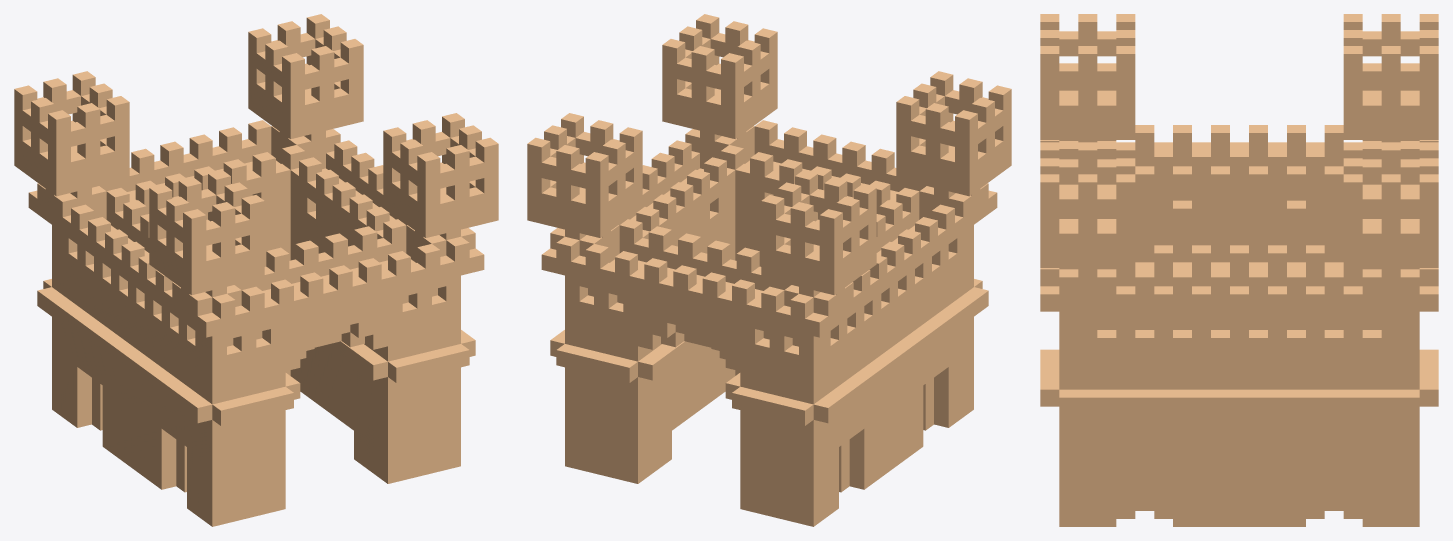
File: 21_21_21_castle.obj
3 views of the same model, side by side, from view 1: azimuth 30°, elevation 25°; view 2: azimuth 150°, elevation 25°; view 3: azimuth 270°, elevation 25° (orthographic). The views are drawn at different scales.
Bounding box in the file's own units: 21 × 21 × 21.
Materials: 1 (1 with a texture image).
